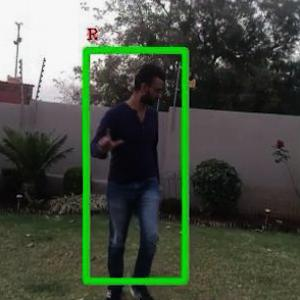land_hand: (95, 123, 124, 151)
